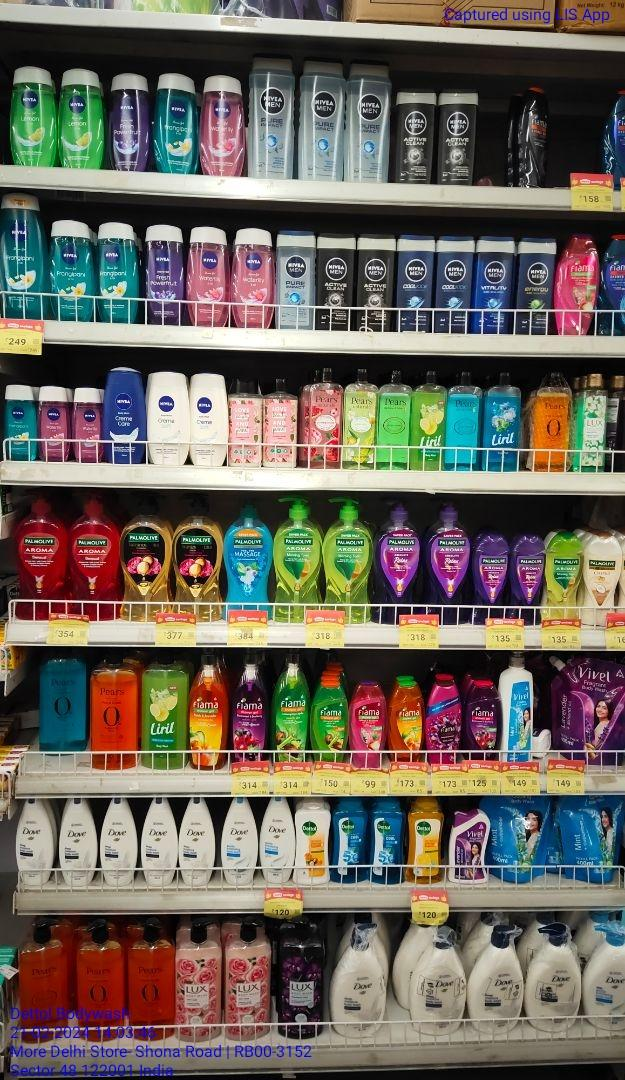Dettol_Bodywash_Cool: (368, 797, 406, 884), (331, 797, 369, 883)
Dettol_Bodywash_Refresh: (407, 796, 445, 885)
Dettol_Nourish_Body_Wash_250ML: (295, 798, 331, 885)
Dove_Gentle_Exfoliating_Body_Wash_250ML: (220, 798, 259, 885), (260, 798, 295, 884)
Fiama_Shower_Gel_Lemongrass_and_Jojoba_250ML: (309, 678, 349, 763)
Fiama_Shower_Gel_Patchouli_and_Macadamia_250ML: (555, 232, 601, 335), (348, 679, 387, 768)
Fiama_Shower_Gel_Peach_and_Avocado_250ML: (387, 679, 424, 762)
Liril_Cooling_Mint_Body_Wash_250ML: (483, 369, 522, 471)
Liril_Lime_and_Tea_Tree_Oil_Body_Wash_250ML: (411, 368, 447, 469)
Lux_Body_Wash_Skin_Detox_Freesia_Scent_and_Alove_Vera_245ML: (574, 373, 608, 472)
Nivea_Creme_Care_Body_Wash_250ML: (102, 366, 146, 462)
Nivea_Creme_Soft_Body_Wash_250ML: (145, 373, 189, 464), (189, 372, 229, 466)
Nivea_Shower_Gel_Frangipani_and_Oil_250ML: (0, 189, 48, 318), (48, 218, 95, 322), (153, 71, 199, 173), (95, 221, 139, 323)
Nivea_Shower_Gel_Fresh_Powerfruit_250ML: (140, 223, 186, 325), (107, 70, 151, 171)
Nivea_Shower_Gel_Lemon_and_Oil_250ML: (8, 63, 57, 166), (57, 66, 105, 168)
Nivea_Shower_Gel_Waterlily_and_Oil_250ML: (199, 72, 246, 176), (186, 224, 230, 327), (230, 227, 275, 326)
Palmolive_Aroma_Morning_Tonic_Shower_Gel_250ML: (545, 532, 583, 619)
Palmolive_Aroma_Relax_250ML: (470, 533, 509, 618), (509, 533, 545, 617)
Palmolive_Coconut_Joy_Exfoliating_Body_Wash_250ML: (582, 531, 622, 626)
Pears_Naturale_Aloe_Vera_Body_Wash_250ML: (342, 367, 377, 470)
Pears_Pure_Glycerin_and_Lemon_Flower_Extracts_Body_Wash_250ML: (377, 368, 412, 469)
Pears_Pure_Glycerin_and_Mint_Extracts_Body_Wash_250ML: (447, 368, 482, 470)
